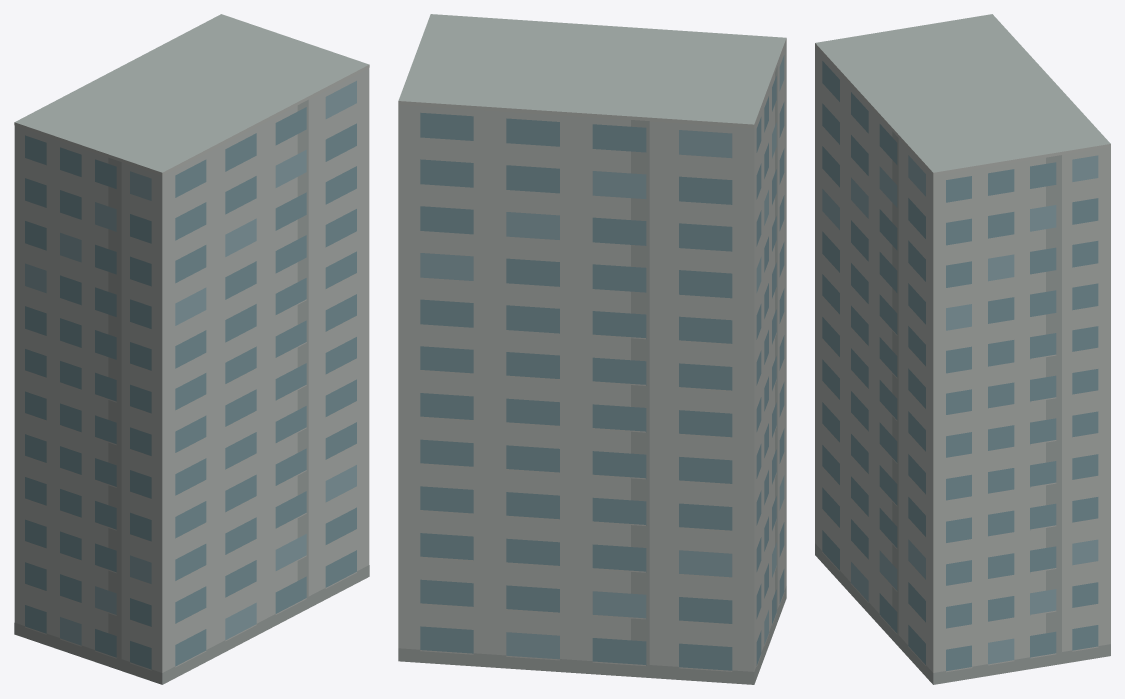
The model's file is residential-29ed03d0-a01d-4252-9f74-ef382b64d1d1.glb.
3 renders of one model, left to right at view 1: azimuth 30°, elevation 25°; view 2: azimuth 150°, elevation 25°; view 3: azimuth 270°, elevation 25°, orthographic. The views are drawn at different scales.
Visible parts, largest first — view 1: residential-29ed03d0-a01d-4252-9f74-ef382b64d1d1.tmp; view 2: residential-29ed03d0-a01d-4252-9f74-ef382b64d1d1.tmp; view 3: residential-29ed03d0-a01d-4252-9f74-ef382b64d1d1.tmp.
Boxes of the visible parts, left/top/right/bottom form: residential-29ed03d0-a01d-4252-9f74-ef382b64d1d1.tmp: left=14, top=14, right=369, bottom=684; residential-29ed03d0-a01d-4252-9f74-ef382b64d1d1.tmp: left=398, top=14, right=786, bottom=684; residential-29ed03d0-a01d-4252-9f74-ef382b64d1d1.tmp: left=815, top=14, right=1110, bottom=684.
Bounding box in the file's own units: 25.94 × 39 × 20.43.
